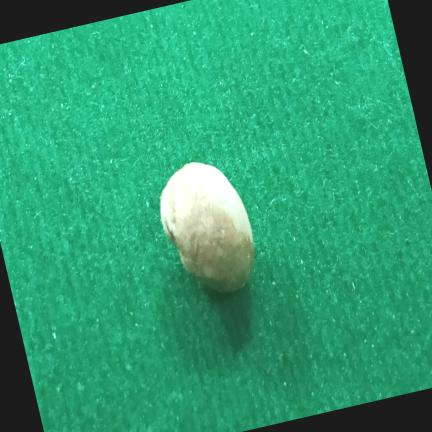good: (160, 162, 254, 292)
